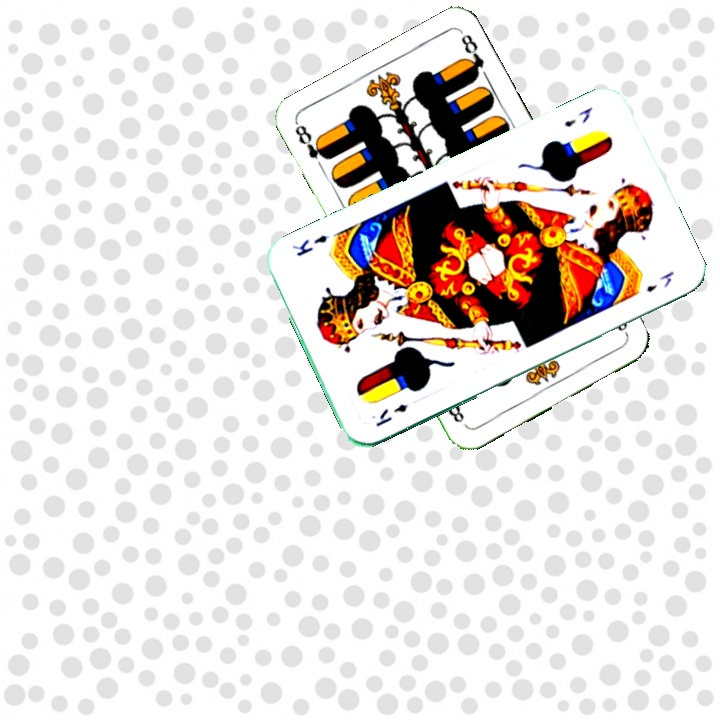E8: (291, 119, 333, 163)
EK: (371, 399, 410, 430), (560, 102, 596, 130)
